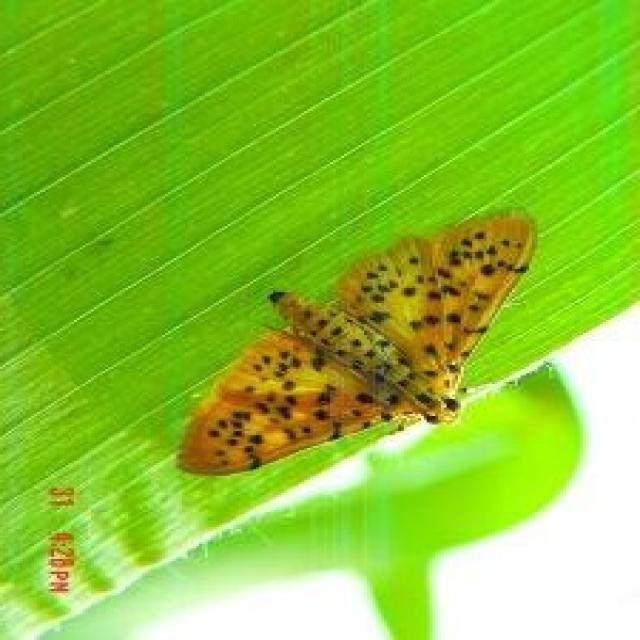peach borer: (176, 206, 554, 483)
